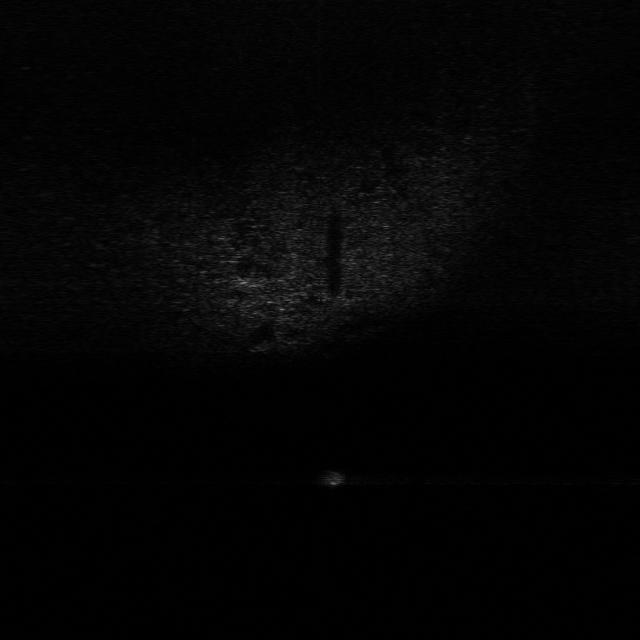cylinder: (320, 470, 350, 490)
